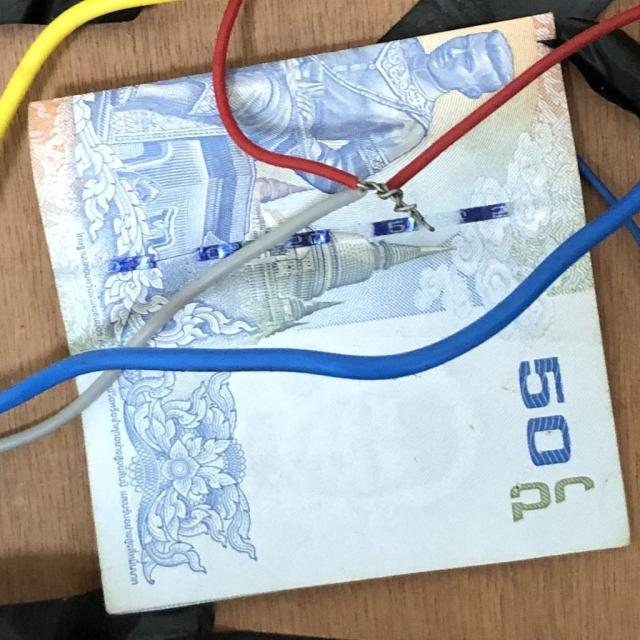THAI50: (81, 256, 629, 614), (150, 70, 586, 354), (29, 74, 333, 355), (231, 15, 554, 179)
